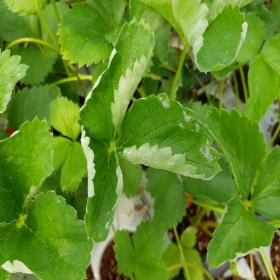Powdery Mildew Leaf: (78, 15, 156, 148), (115, 92, 224, 181), (0, 189, 95, 279), (171, 0, 248, 73), (206, 195, 279, 270), (79, 125, 124, 244), (0, 47, 31, 114)
